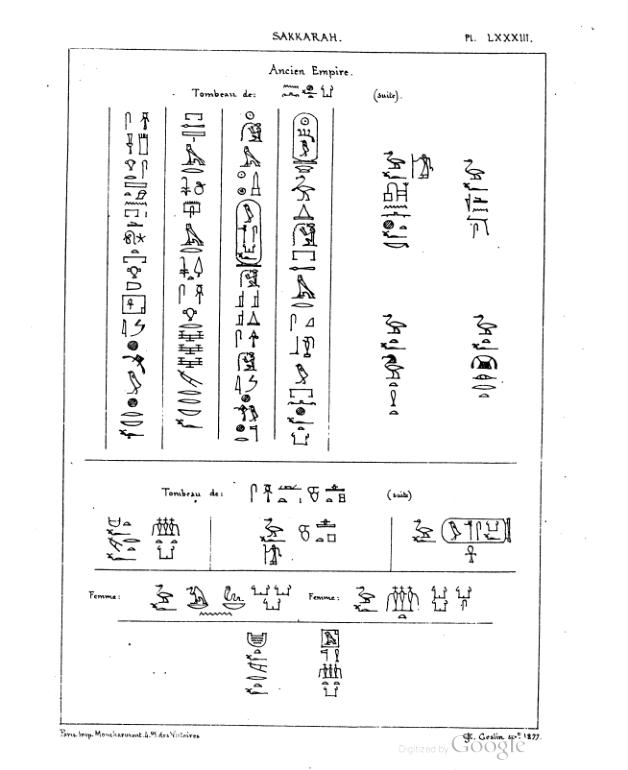circle: (437, 512, 516, 545), (233, 198, 264, 269), (288, 108, 320, 166)
